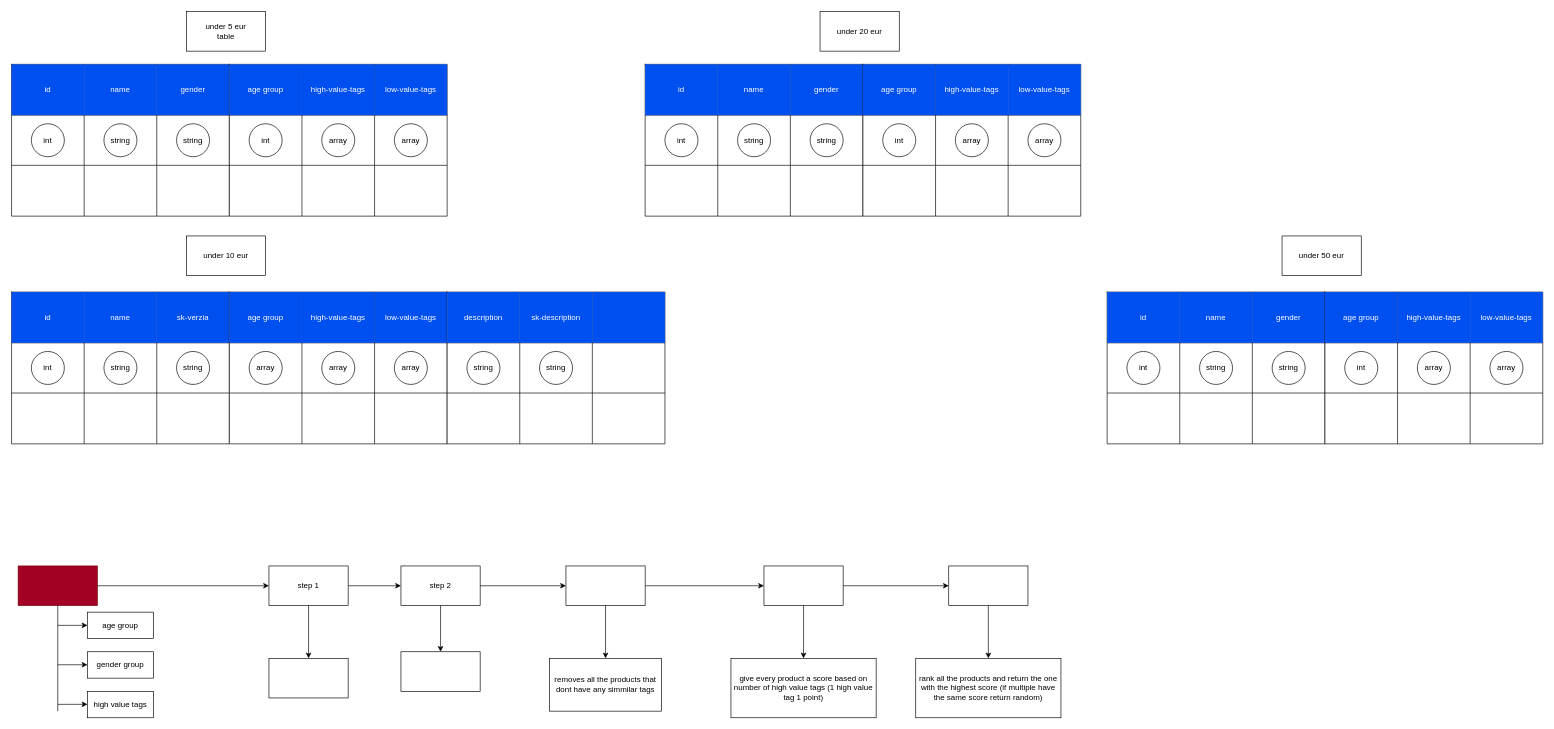
Image size: 1554x729. Some labels were removed from this diagram. The shapes that lost their labels are listed below. From the top down, each one's centre as x and y in pixels, then its label:
the point at 57,585: Example query (this will happen for every table)
the point at 605,585: step 3
the point at 803,585: step 4
the point at 988,585: step 5
the point at 308,678: selects all the items for the age range
the point at 440,671: select all the items for the gender
